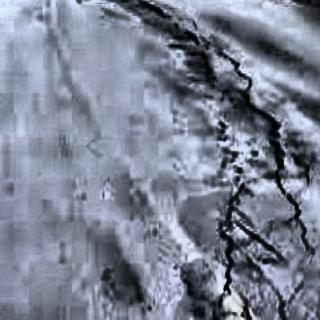alligator-crack: (201, 175, 320, 320)
crack: (196, 36, 259, 106), (245, 97, 292, 175), (126, 0, 206, 43)
